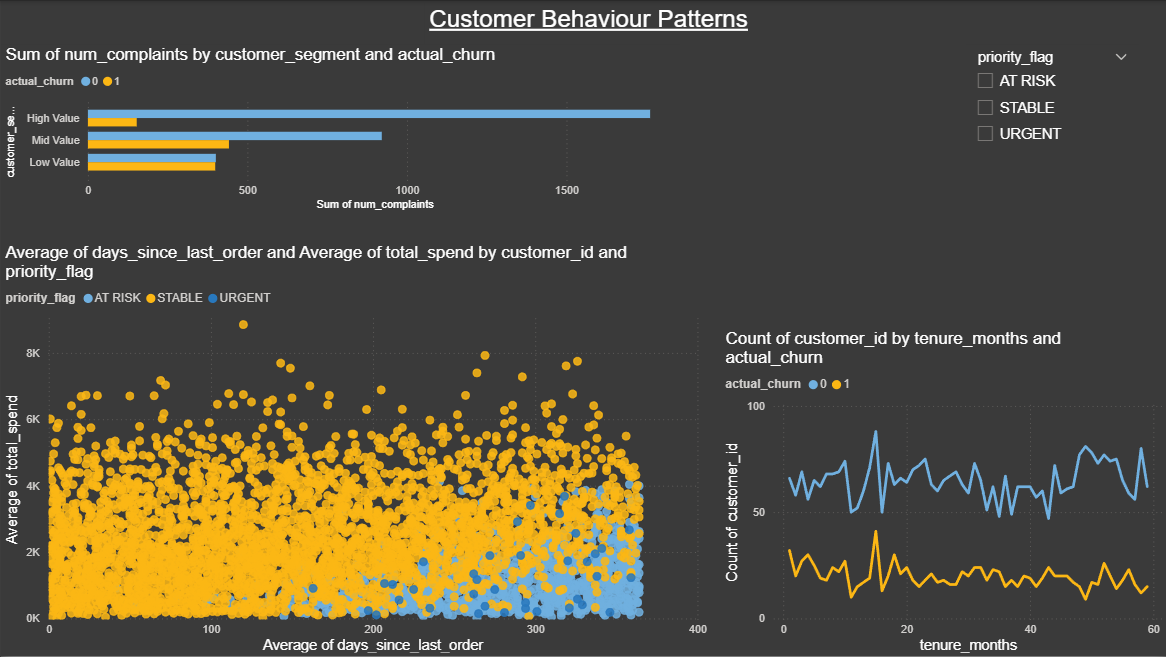

Layout of this report page (visuals, bound fields, positions):
{"tool":"powerbi","page":{"name":"Page 5","canvas":[1280,720],"ordinal":4},"visuals":[{"type":"textbox","box":[465.2,0,469.3,48],"z":0},{"type":"scatterChart","fields":{"X":["Avg(fct_churn.days_since_last_order)"],"Y":["Avg(fct_churn.total_spend)"],"Series":["fct_churn.priority_flag"],"Category":["fct_churn.customer_id"]},"box":[0,264.8,780.8,455.6],"z":1},{"type":"clusteredBarChart","fields":{"Category":["fct_churn.customer_segment"],"Y":["Sum(fct_churn.num_complaints)"],"Series":["fct_churn.actual_churn"]},"box":[0,48,745.1,186.6],"z":2},{"type":"lineChart","fields":{"Category":["fct_churn.tenure_months"],"Y":["CountNonNull(fct_churn.customer_id)"],"Series":["fct_churn.actual_churn"]},"box":[790.4,359.5,489.9,360.9],"z":3},{"type":"slicer","fields":{"Values":["fct_churn.priority_flag"]},"box":[1059.4,48,189.4,186.6],"z":4}]}

Visuals, with their boxes in screenshot pixels (x1, y1, x2, y2), scaled from the page's 1280x720 canvas onto the 1166x657 screenshot:
textbox: l=424, t=0, r=851, b=44
scatterChart - Avg(fct_churn.days_since_last_order) x Avg(fct_churn.total_spend): l=0, t=242, r=711, b=656
clusteredBarChart - fct_churn.customer_segment x Sum(fct_churn.num_complaints): l=0, t=44, r=679, b=214
lineChart - fct_churn.tenure_months x CountNonNull(fct_churn.customer_id): l=720, t=328, r=1165, b=656
slicer - fct_churn.priority_flag: l=965, t=44, r=1138, b=214
